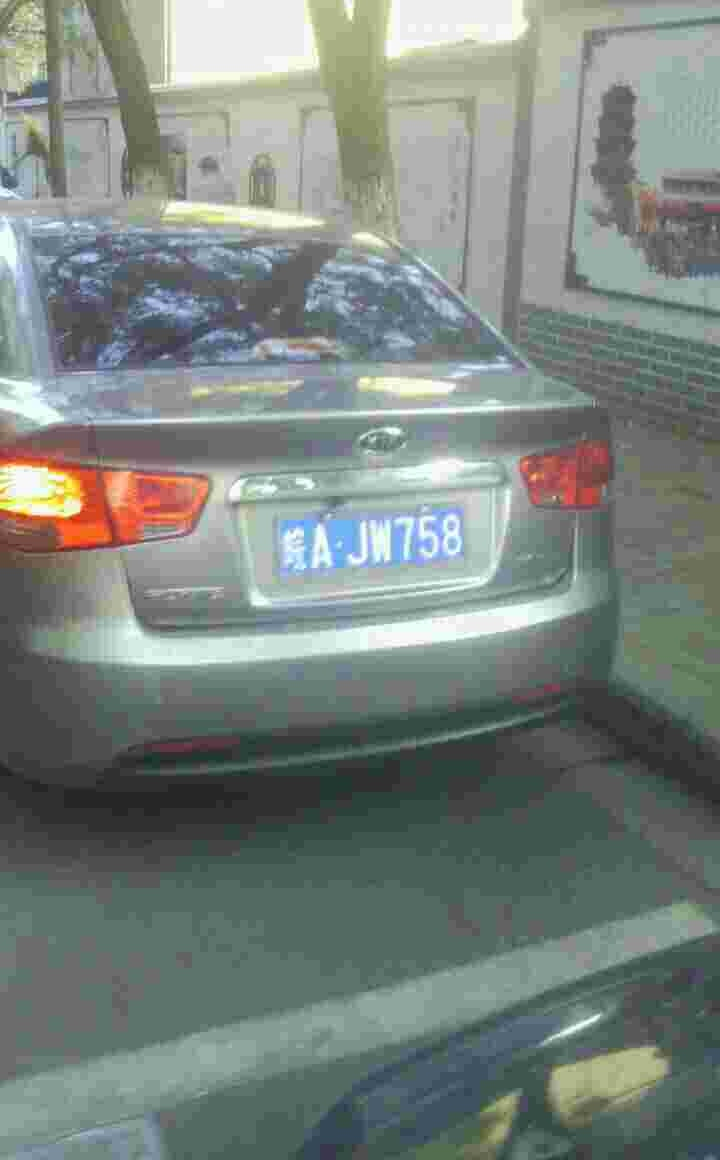license_plate: (280, 511, 478, 577)
